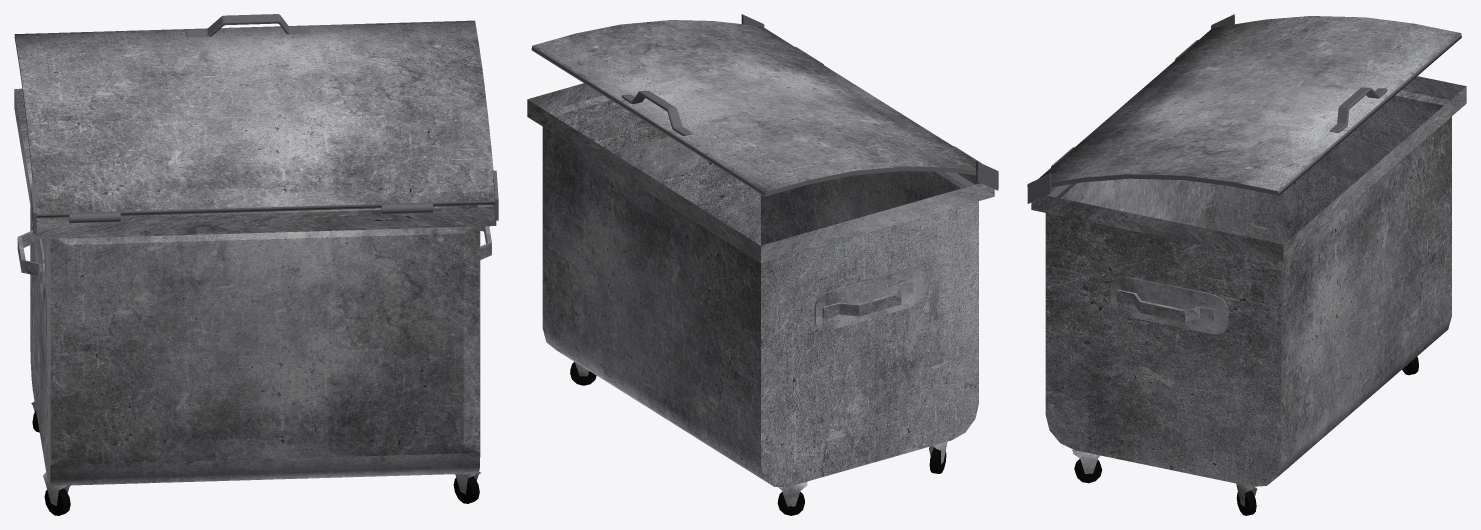
Rendered from trashcan.obj.
3 renders of one model, left to right at view 1: azimuth 30°, elevation 25°; view 2: azimuth 150°, elevation 25°; view 3: azimuth 270°, elevation 25°, orthographic. The views are drawn at different scales.
Parts seen in each view (by area): view 1: cardboar_box_001.001; view 2: cardboar_box_001.001; view 3: cardboar_box_001.001.
Boxes of the visible parts, x1,y1,x2,y2 form: cardboar_box_001.001: (14,14,498,515); cardboar_box_001.001: (527,14,998,515); cardboar_box_001.001: (1027,14,1466,515).
Bounding box in the file's own units: 1.83 × 1.43 × 1.6.
2 materials, 1 textured.
